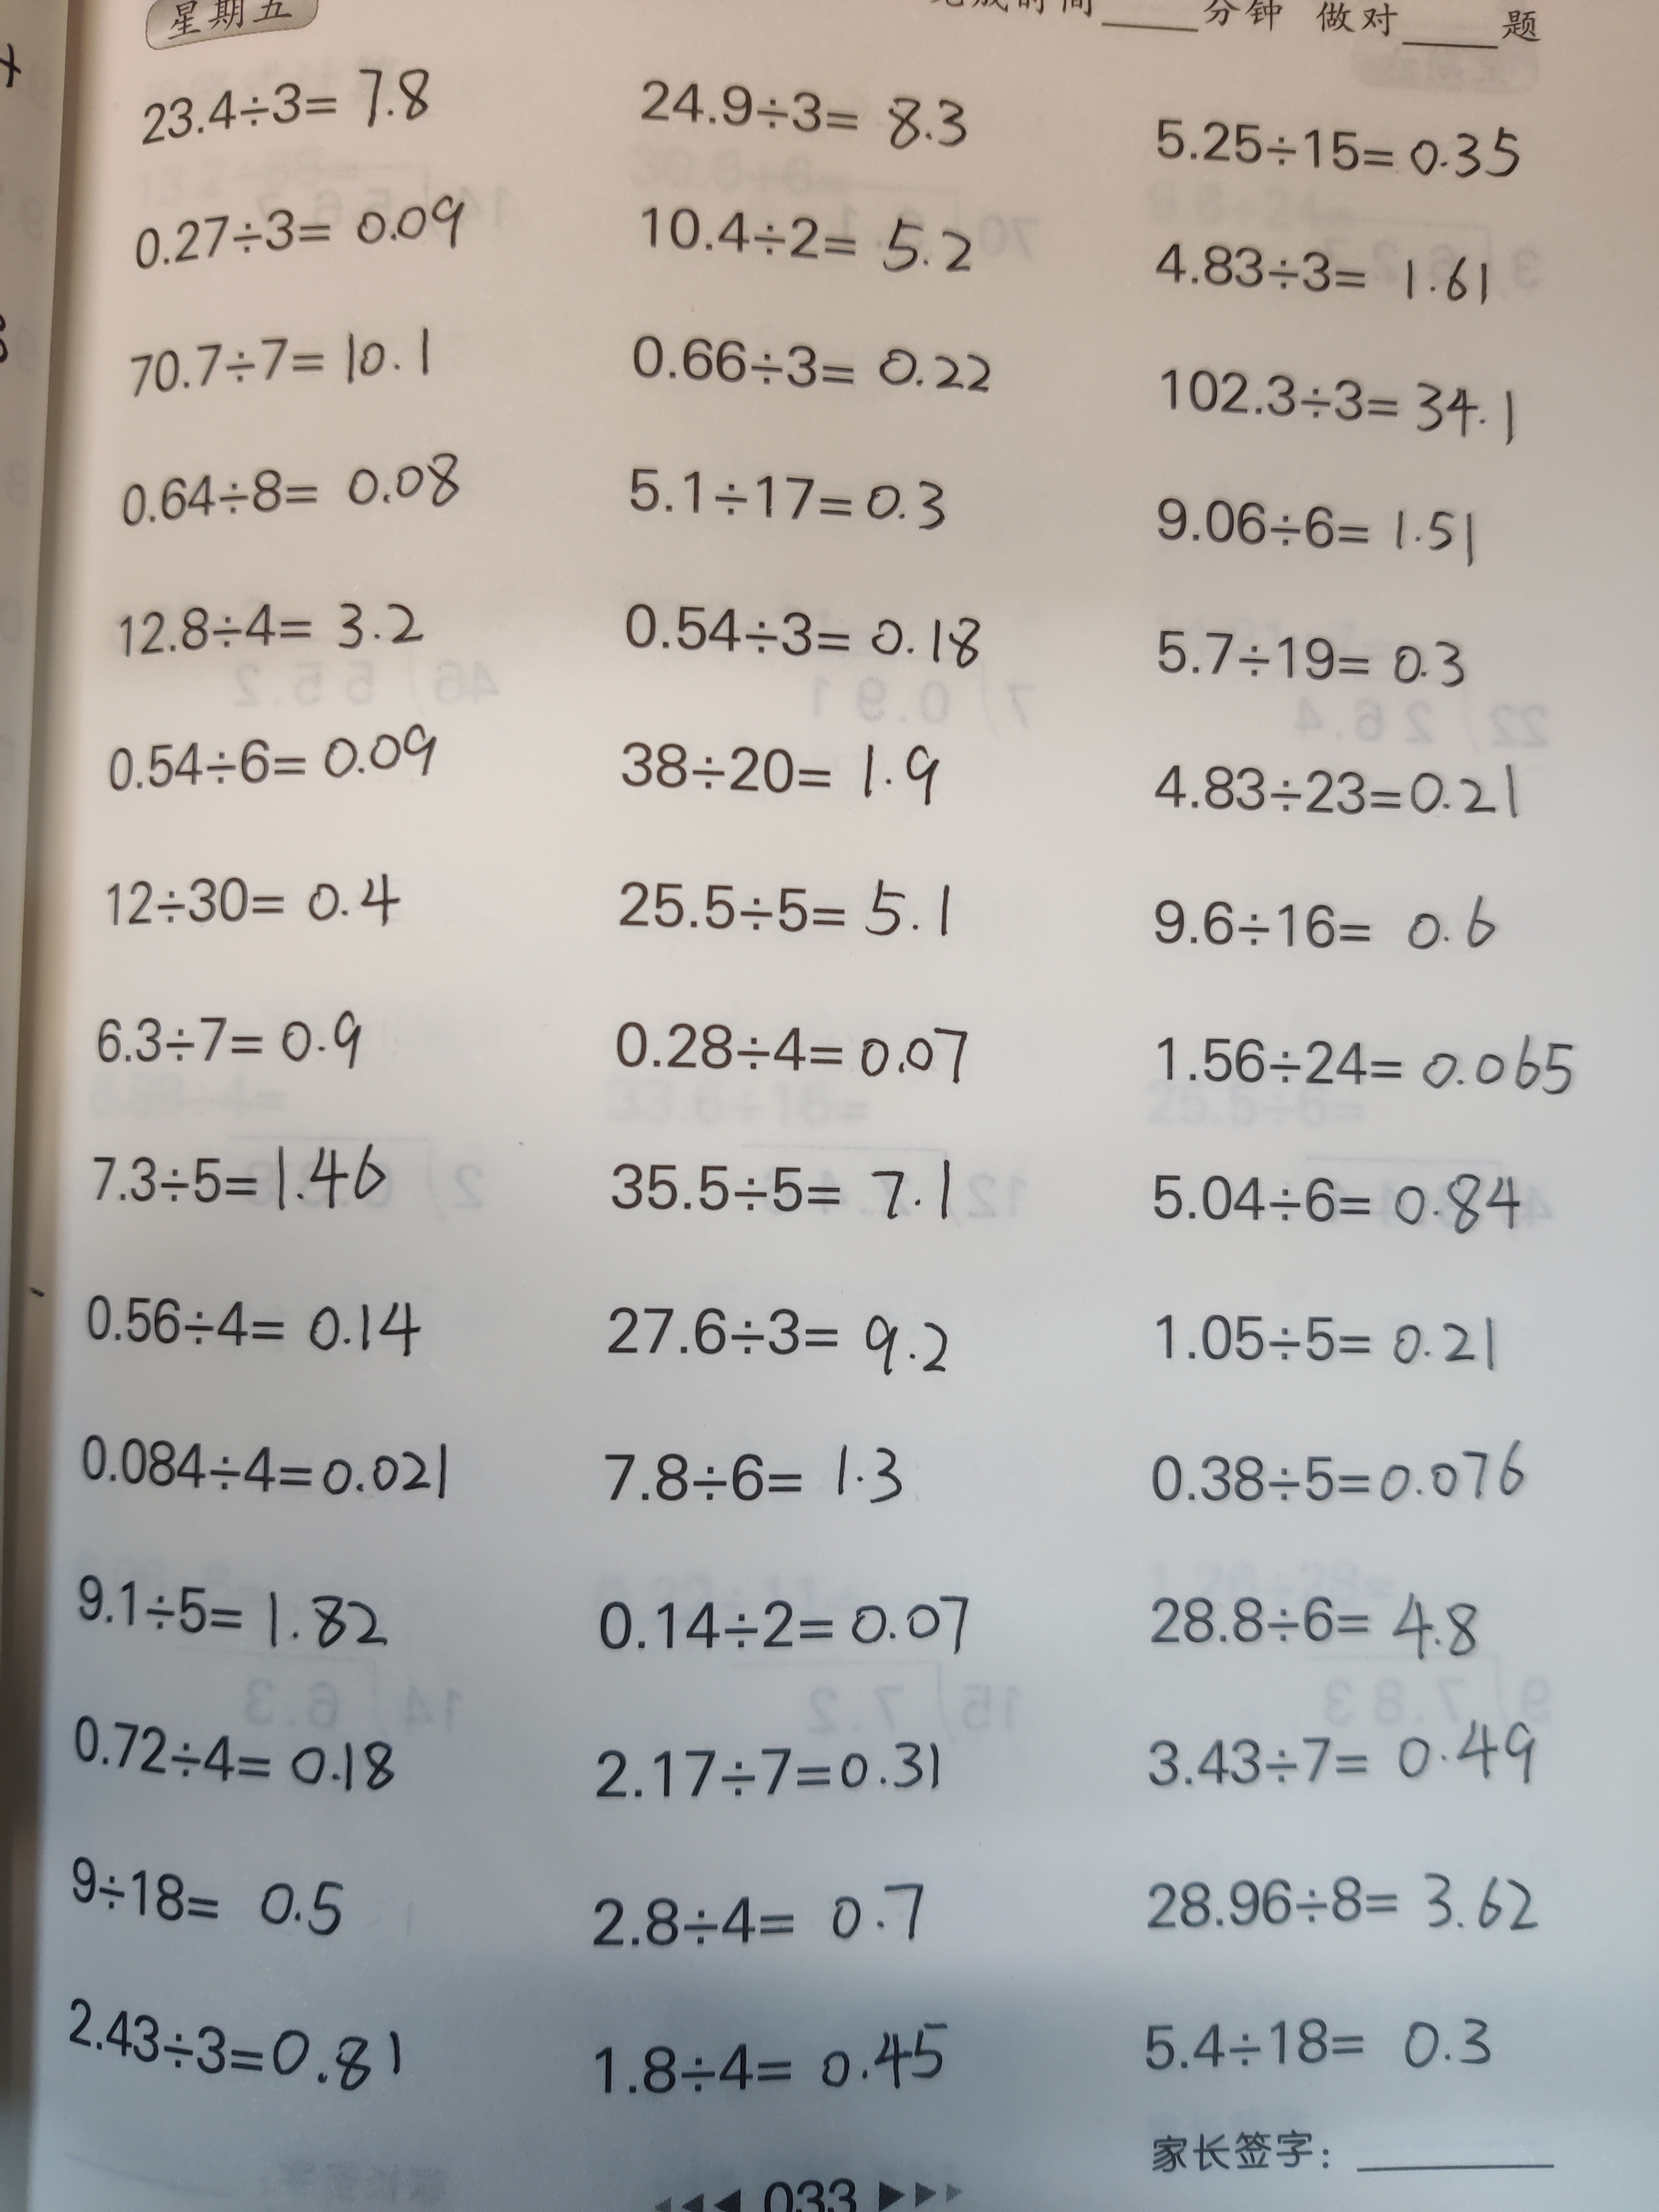equation: (1143, 1000, 1584, 1125), (603, 38, 1002, 171), (1129, 1848, 1547, 1958), (56, 1414, 471, 1524), (582, 1568, 990, 1679), (592, 998, 979, 1113), (1145, 340, 1523, 456), (606, 568, 986, 683), (54, 1984, 415, 2104), (73, 1263, 422, 1383), (566, 1864, 948, 1973), (56, 1695, 408, 1813), (582, 1287, 967, 1395), (619, 185, 1002, 293), (610, 312, 999, 418), (1138, 91, 1530, 195), (592, 1137, 967, 1245), (1134, 1714, 1554, 1810), (1131, 1573, 1497, 1679), (112, 437, 472, 543), (1143, 219, 1511, 322), (1124, 1996, 1504, 2094), (52, 1838, 369, 1954), (1141, 742, 1532, 836), (598, 853, 955, 956), (1131, 1433, 1542, 1522), (59, 1555, 396, 1663), (603, 719, 953, 822), (1141, 1162, 1539, 1252), (1138, 479, 1486, 582), (125, 49, 467, 153), (612, 444, 958, 545), (1136, 873, 1518, 963), (575, 1421, 917, 1522), (92, 573, 434, 672), (563, 2017, 967, 2101), (582, 1731, 960, 1820), (1141, 1303, 1514, 1390), (117, 315, 444, 413), (71, 1130, 401, 1226), (1145, 608, 1481, 700), (73, 988, 382, 1087), (91, 716, 448, 801), (94, 853, 408, 949), (113, 188, 471, 272)
